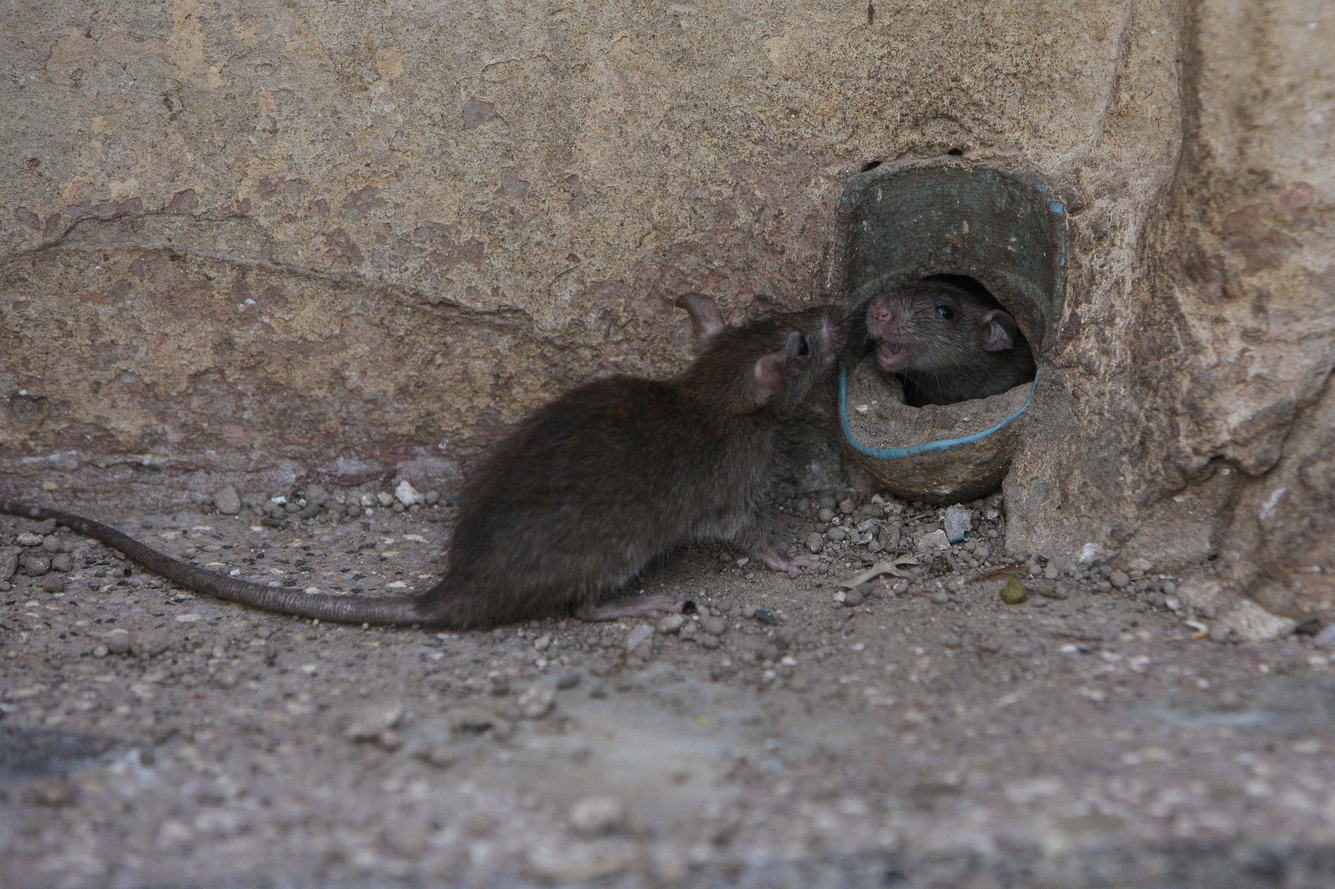rat: (0, 294, 860, 630)
